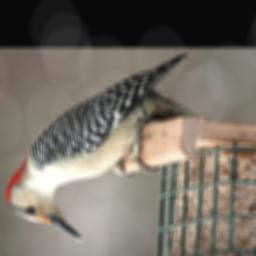Woodpecker: (3, 52, 202, 241)
